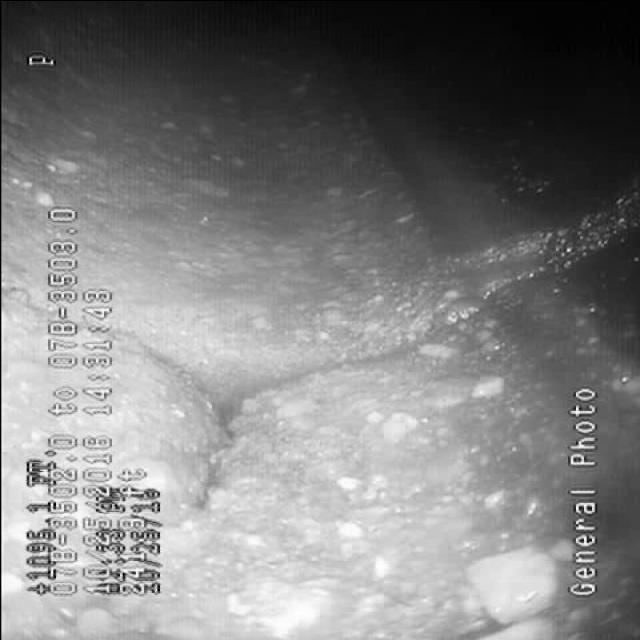Crack: (156, 317, 394, 498)
